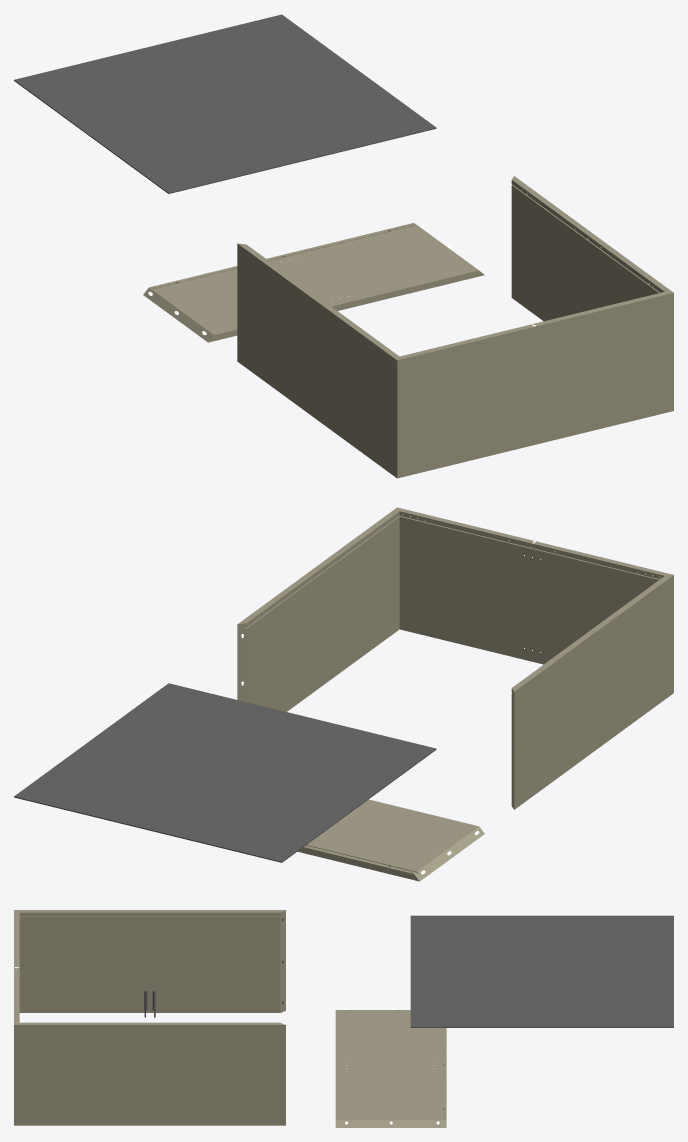
Rendered from Etapes_5.glb.
The picture shows the model from 3 angles, top to bottom: view 1: azimuth 30°, elevation 25°; view 2: azimuth 150°, elevation 25°; view 3: azimuth 270°, elevation 25°; orthographic projection. The views are drawn at different scales.
Parts seen in each view (by area): view 1: Cube.004, Cube.002, Cube.001, Cube.003, Cube; view 2: Cube.004, Cube.002, Cube.001, Cube, Cube.003; view 3: Cube.004, Cube, Cube.001, Cube.003, Cube.002.
Part boxes in pixels (x1=…): Cube.004: x1=14, y1=14, x2=436, y2=193; Cube.002: x1=397, y1=292, x2=673, y2=478; Cube.001: x1=237, y1=243, x2=399, y2=478; Cube.003: x1=143, y1=223, x2=484, y2=342; Cube: x1=511, y1=176, x2=673, y2=321; Cube.004: x1=14, y1=683, x2=436, y2=862; Cube.002: x1=397, y1=507, x2=673, y2=664; Cube.001: x1=511, y1=575, x2=673, y2=809; Cube: x1=237, y1=507, x2=399, y2=711; Cube.003: x1=297, y1=799, x2=484, y2=881; Cube.004: x1=410, y1=915, x2=673, y2=1027; Cube: x1=14, y1=1022, x2=285, y2=1125; Cube.001: x1=14, y1=910, x2=285, y2=1017; Cube.003: x1=335, y1=1007, x2=446, y2=1127; Cube.002: x1=14, y1=910, x2=19, y2=1024.
Bounding box in the file's own units: 0.76 × 0.3192 × 1.84.
